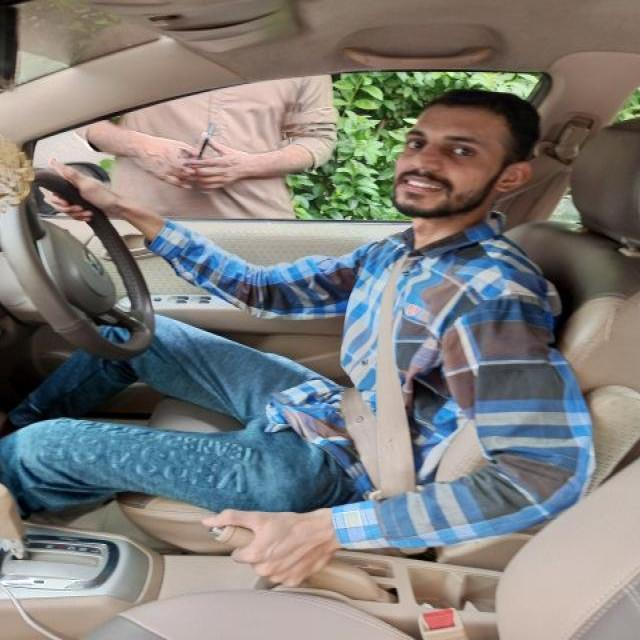seatbelt: (262, 213, 526, 640)
